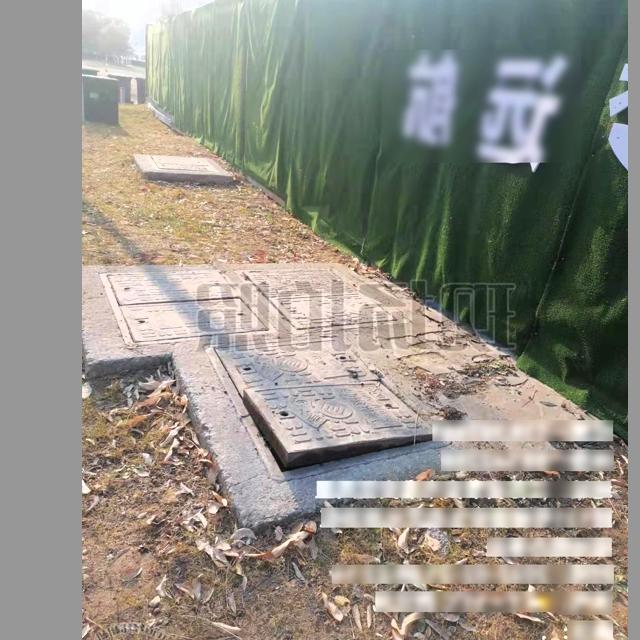good: (99, 266, 274, 342), (241, 266, 404, 330), (147, 155, 218, 172)
uncovered: (205, 338, 452, 484)
